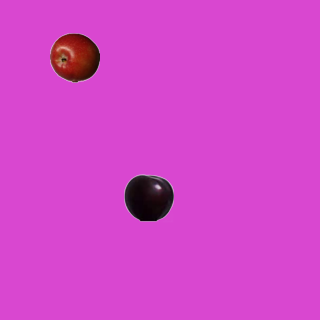Apple Braeburn: (49, 32, 99, 82)
Cherry Wax Black: (123, 172, 173, 222)
